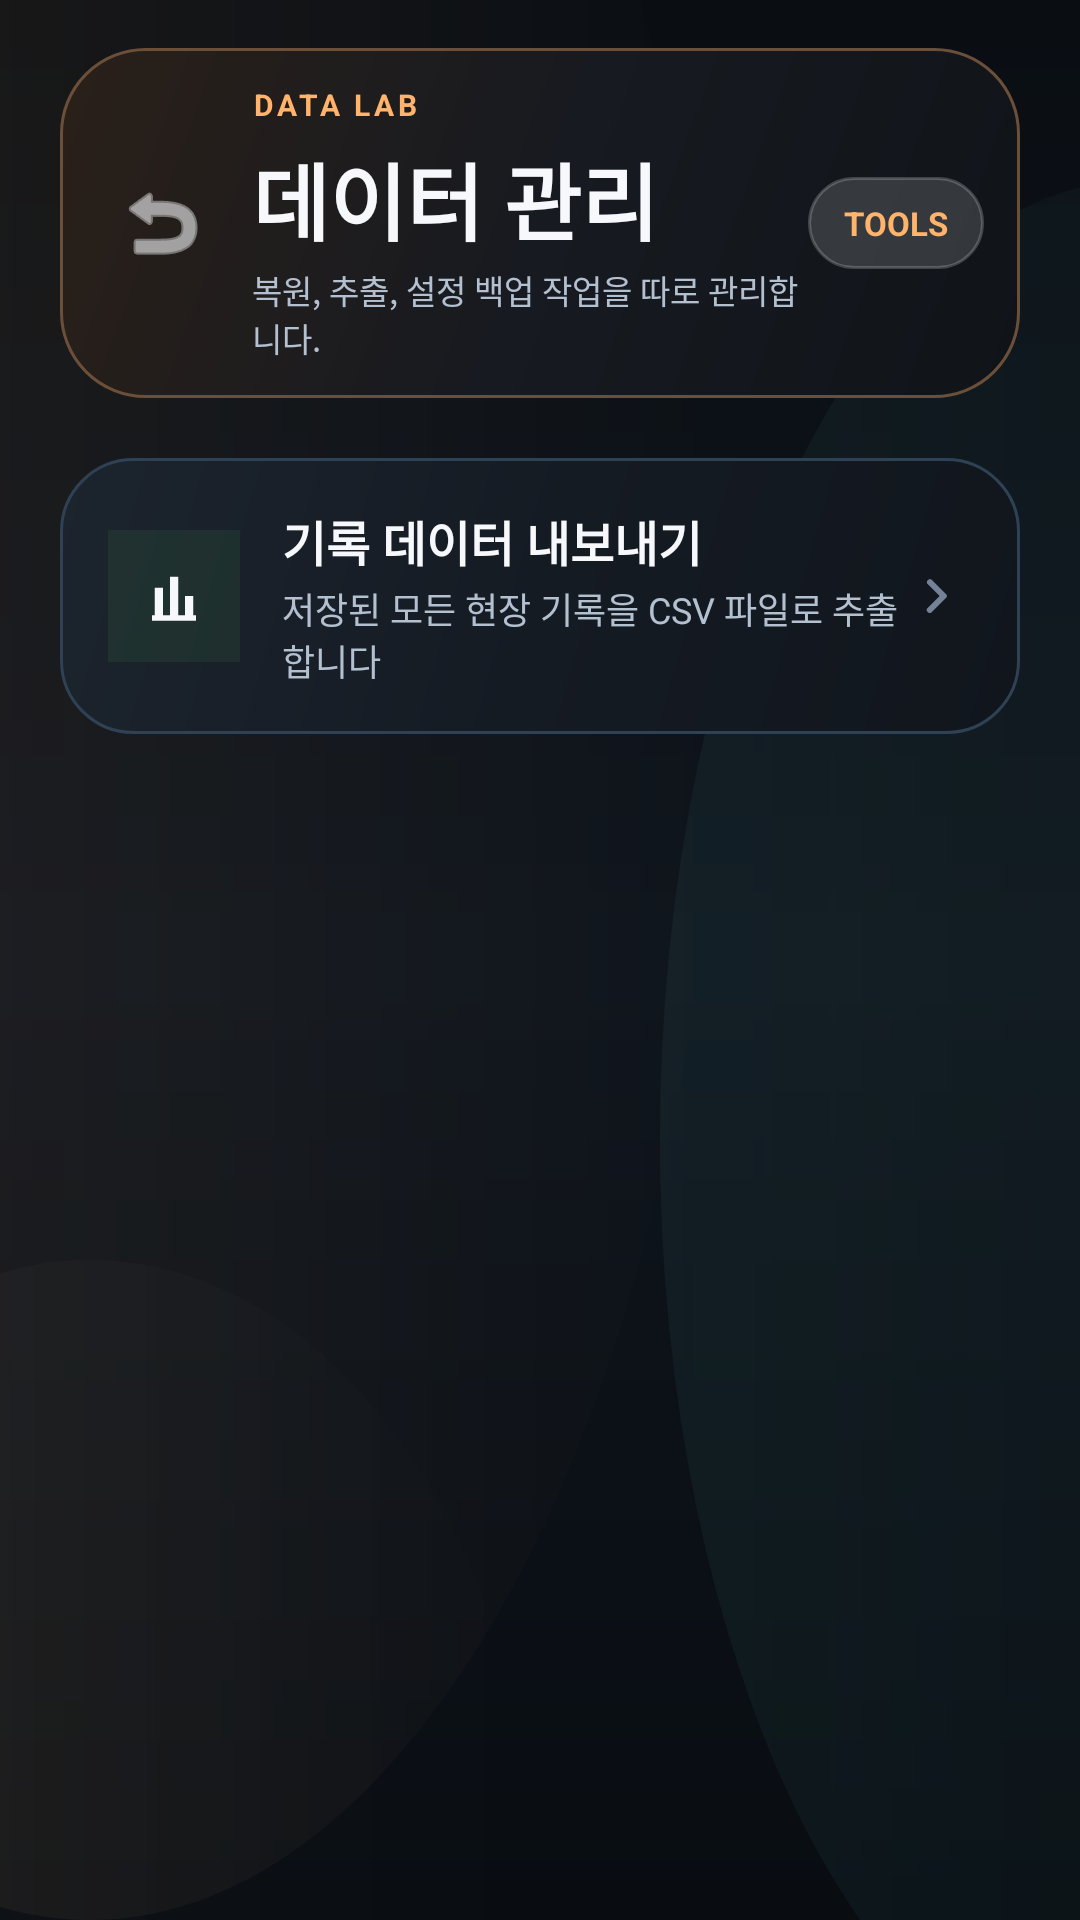

Where icons sit on this 1080px×1920px app screen, as (x1, y1, x2, y2):
chart: (152, 576, 196, 621)
chevron right: (926, 579, 947, 613)
revert: (129, 192, 198, 255)
